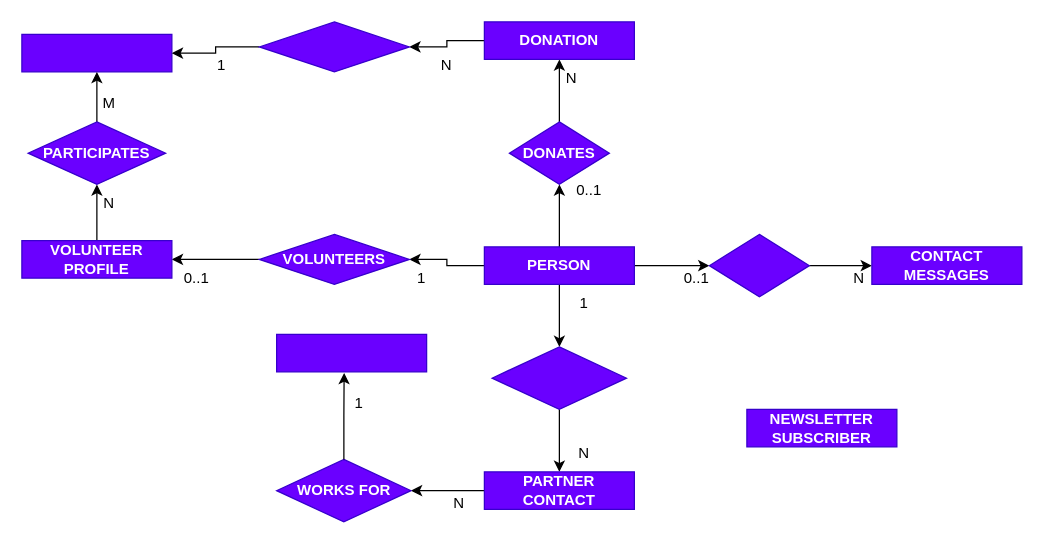
This 1044x544 diagram has some shape labels left out. Here are the shapes that lost their labels. From the top down, the centre of each, then its label:
At point (96, 52): "EVENT".
At point (333, 46): "IS FUNDED BY".
At point (758, 265): "SUBMITS".
At point (351, 352): "PARTNER ORGANIZATION".
At point (558, 377): "SERVES AS".
